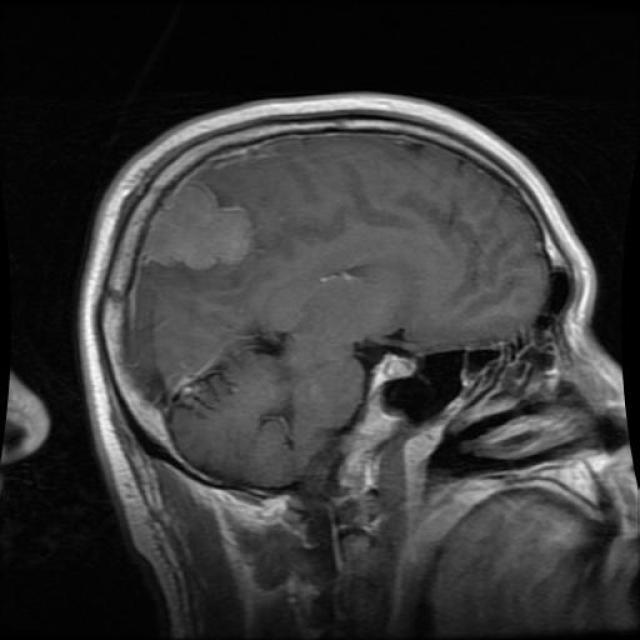meningioma: (144, 182, 254, 270)
